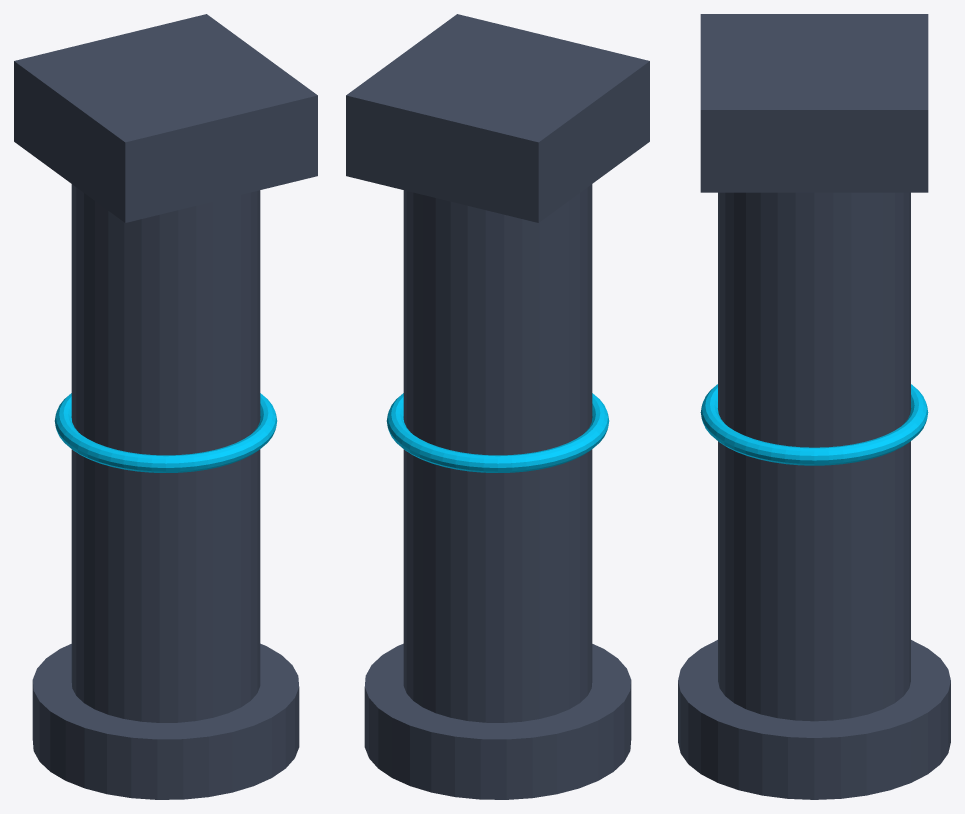
Rendered from arena_pillar.obj.
3 views of the same model, side by side, from view 1: azimuth 30°, elevation 25°; view 2: azimuth 150°, elevation 25°; view 3: azimuth 270°, elevation 25° (orthographic). The views are drawn at different scales.
Visible parts, largest first — view 1: Cylinder.001, Cube, Cylinder, Torus; view 2: Cylinder.001, Cube, Cylinder, Torus; view 3: Cylinder.001, Cube, Cylinder, Torus.
Part boxes in pixels (x1,y1,x2,y2): Cylinder.001: [71, 184, 260, 722]; Cube: [14, 14, 317, 222]; Cylinder: [32, 643, 299, 799]; Torus: [54, 393, 277, 472]; Cylinder.001: [403, 184, 592, 722]; Cube: [346, 14, 649, 222]; Cylinder: [364, 643, 631, 799]; Torus: [386, 393, 609, 472]; Cylinder.001: [718, 192, 910, 721]; Cube: [700, 14, 928, 192]; Cylinder: [678, 640, 950, 799]; Torus: [700, 384, 928, 465].
Bounding box in the file's own units: 2.4 × 6.6 × 2.4.
